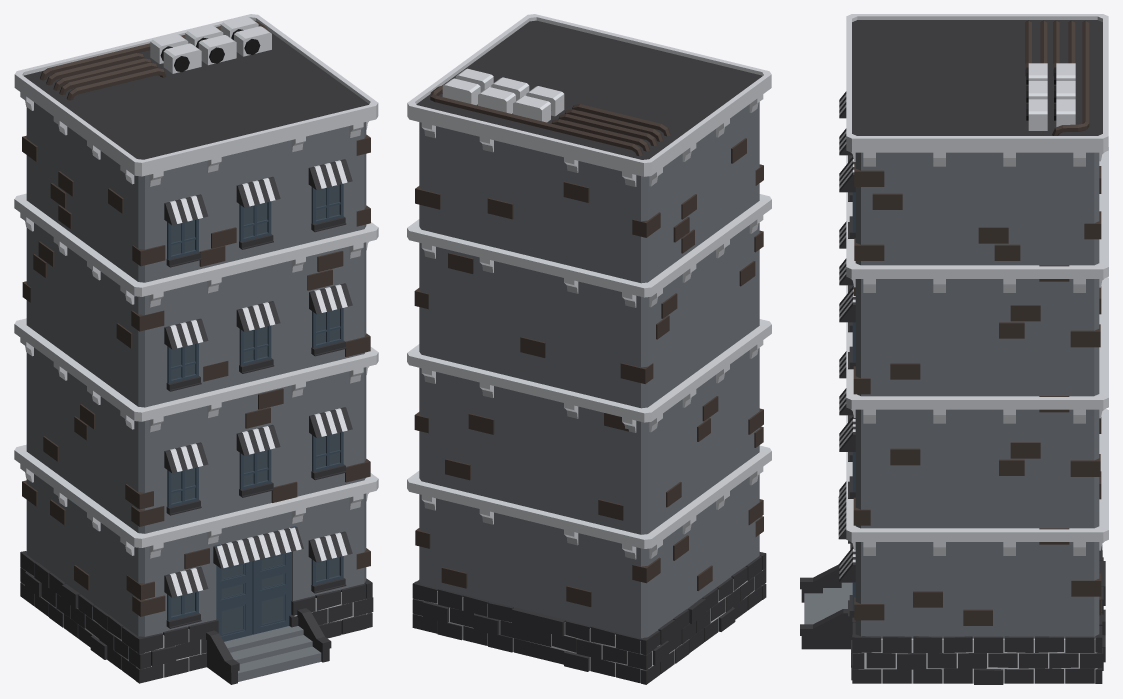
Rendered from tokyo-block-4story.glb.
3 views of the same model, side by side, from view 1: azimuth 30°, elevation 25°; view 2: azimuth 150°, elevation 25°; view 3: azimuth 270°, elevation 25° (orthographic). The views are drawn at different scales.
Size of the model in its own units: 2.42 by 5.09 by 2.53.
